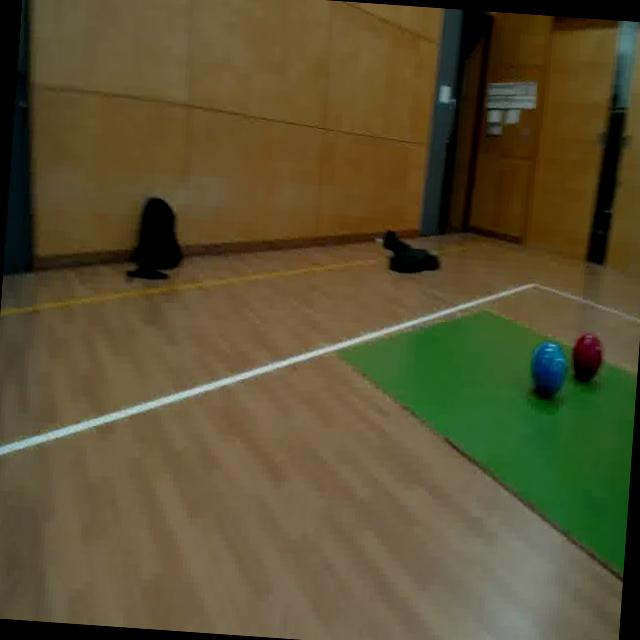blue_ball: (530, 333, 566, 398)
red_ball: (569, 331, 604, 383)
